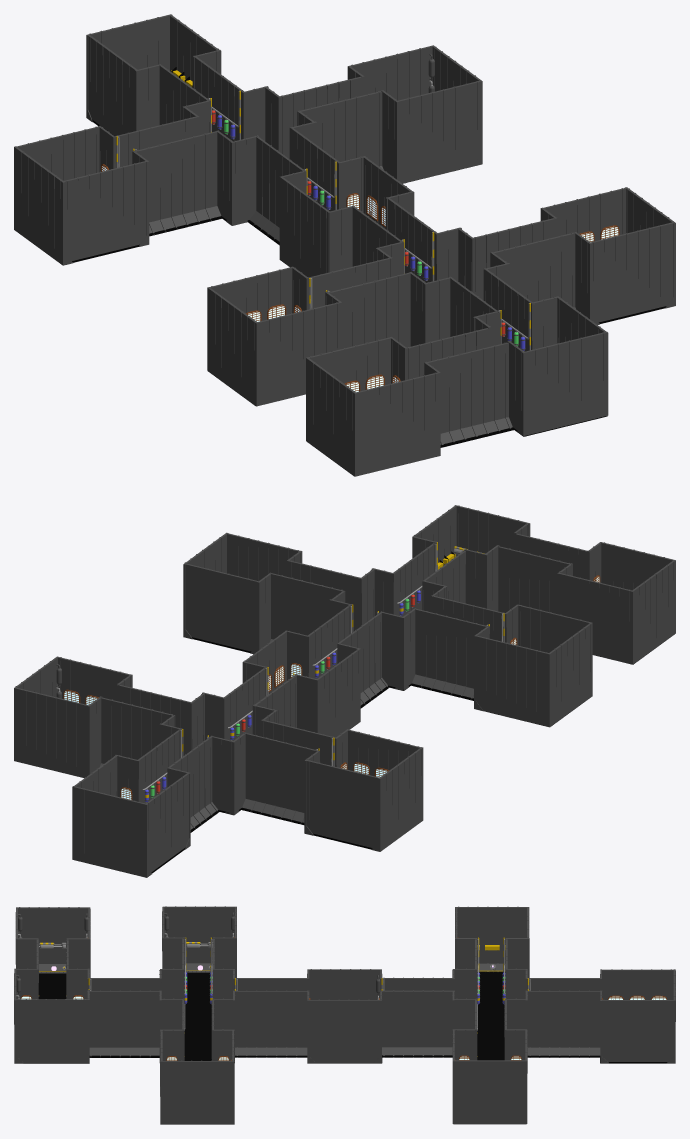
Rendered from Room10.fbx.
The picture shows the model from 3 angles, top to bottom: view 1: azimuth 30°, elevation 25°; view 2: azimuth 150°, elevation 25°; view 3: azimuth 270°, elevation 25°; orthographic projection. The views are drawn at different scales.
Parts seen in each view (by area): view 1: Room10; view 2: Room10; view 3: Room10.
Part boxes in pixels (x1,y1,x2,y2): Room10: [14, 14, 675, 476]; Room10: [14, 505, 675, 877]; Room10: [14, 906, 675, 1124].
Size of the model in its own units: 58990 by 11452 by 106469.
